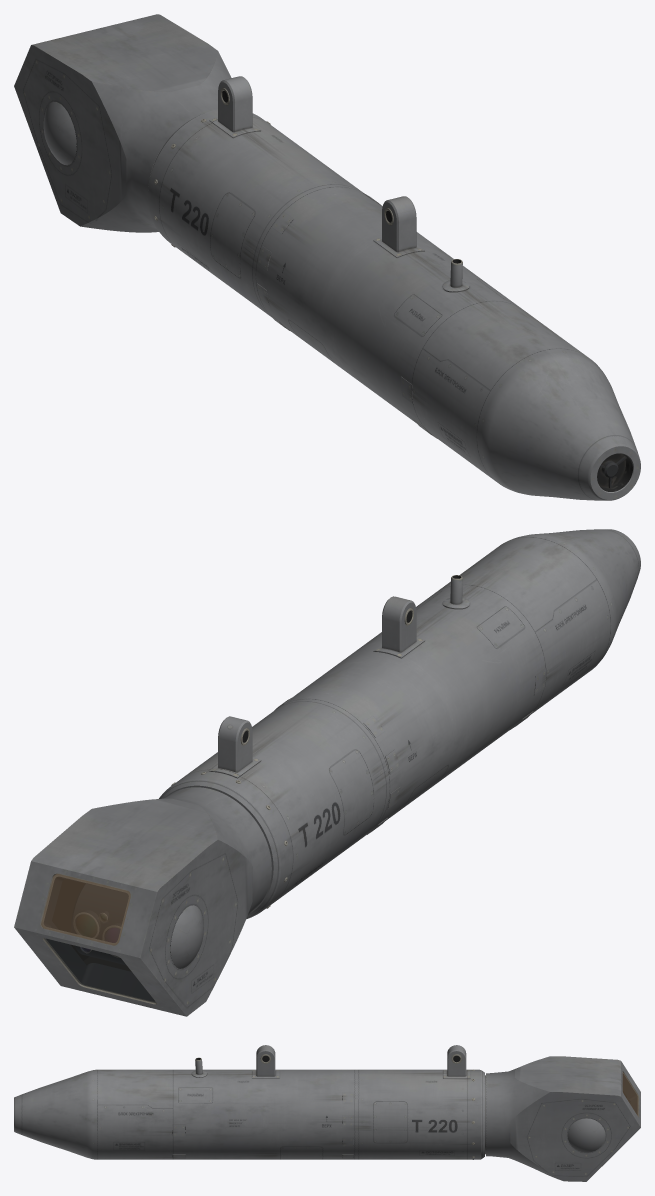
File: w_pod_e.glb
The picture shows the model from 3 angles, top to bottom: view 1: azimuth 30°, elevation 25°; view 2: azimuth 150°, elevation 25°; view 3: azimuth 270°, elevation 25°; orthographic projection. The views are drawn at different scales.
Parts seen in each view (by area): view 1: body, head; view 2: body, head, head_glass, optic; view 3: body, head, head_glass.
Part boxes in pixels (x1=…): body: x1=148, y1=76, x2=640, y2=500; head: x1=14, y1=14, x2=231, y2=232; body: x1=159, y1=529, x2=640, y2=919; head: x1=14, y1=787, x2=271, y2=1016; head_glass: x1=41, y1=873, x2=156, y2=1002; optic: x1=71, y1=884, x2=128, y2=964; body: x1=14, y1=1045, x2=484, y2=1159; head: x1=485, y1=1056, x2=640, y2=1181; head_glass: x1=622, y1=1072, x2=638, y2=1115.
Size of the model in its own units: 0.3705 by 0.485 by 2.37.
Materials: 3 (1 with a texture image).
